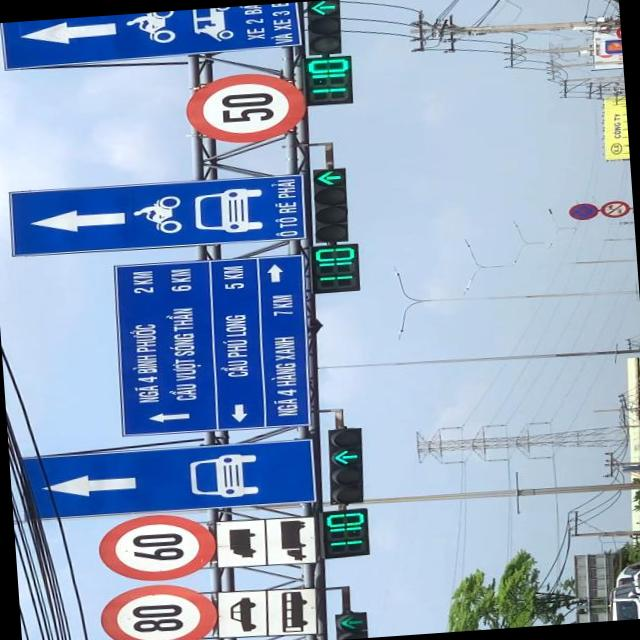P-127: (184, 68, 306, 144)
